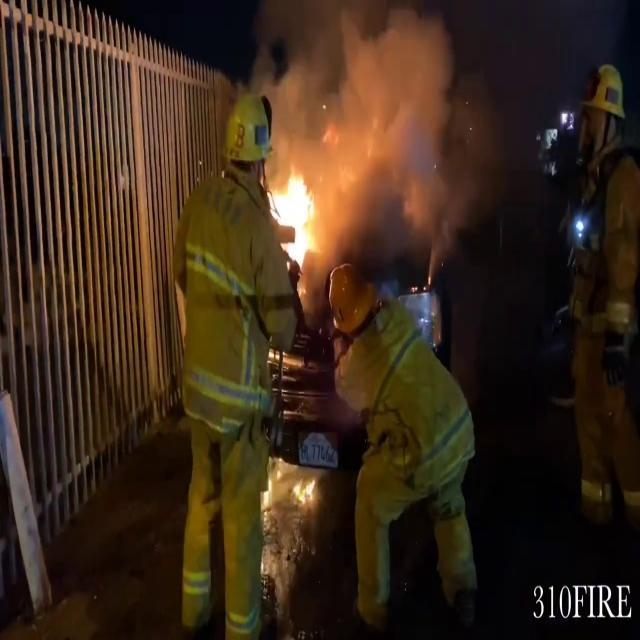Fire: (270, 162, 324, 268)
Smoke: (263, 1, 462, 245)
